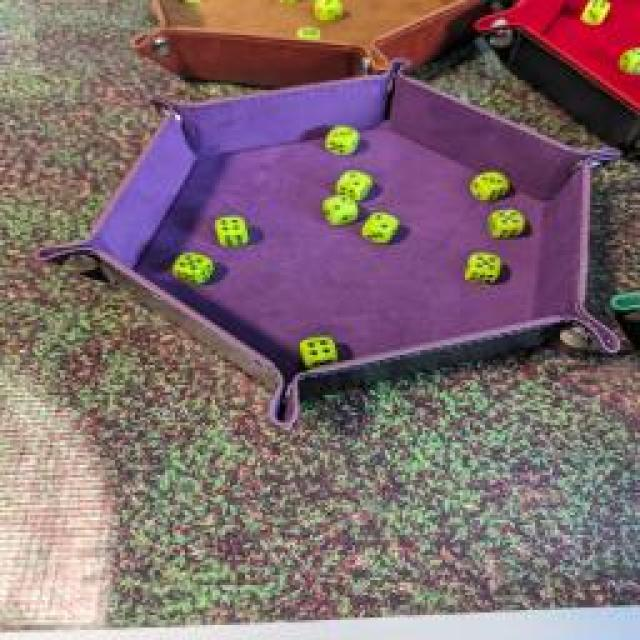dice_2: (326, 170, 376, 200), (360, 211, 405, 244), (316, 195, 359, 225)
dice_3: (322, 120, 368, 158), (464, 172, 511, 200), (307, 0, 347, 22), (615, 45, 640, 77)
dice_4: (296, 331, 339, 371), (212, 212, 250, 246)
dice_5: (460, 250, 505, 288), (482, 204, 532, 238), (169, 250, 211, 285), (290, 23, 328, 45)
dice_6: (575, 0, 613, 25)
